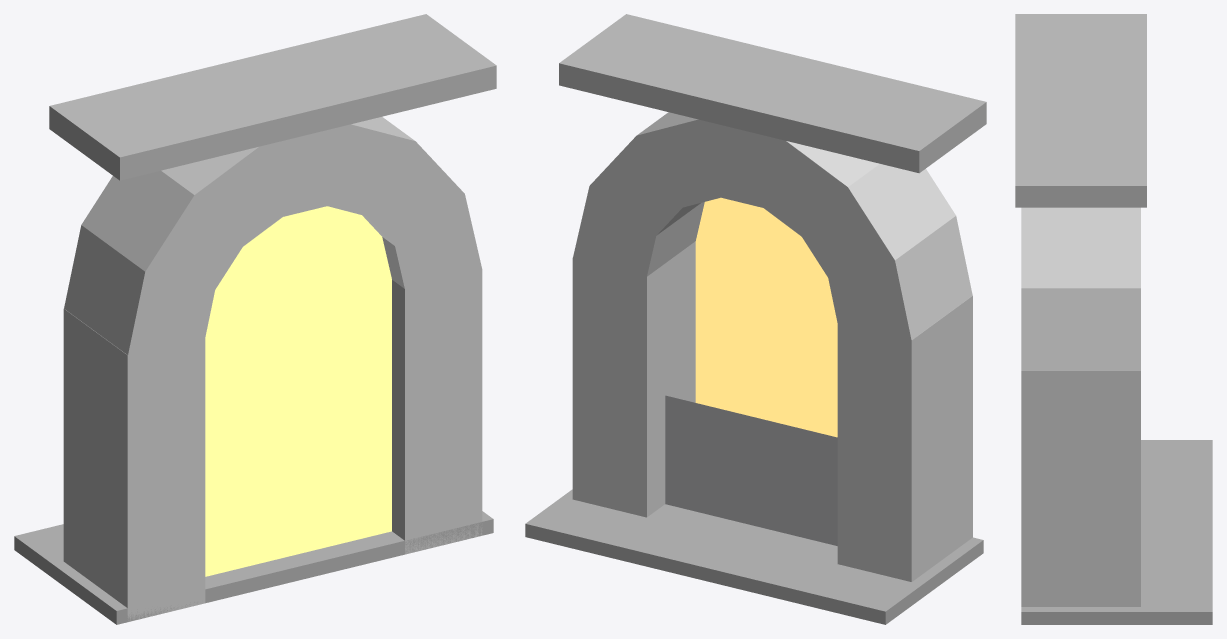
The model's file is furnace_mouth.glb.
The picture shows the model from 3 angles, left to right: view 1: azimuth 30°, elevation 25°; view 2: azimuth 150°, elevation 25°; view 3: azimuth 270°, elevation 25°; orthographic projection. The views are drawn at different scales.
Parts seen in each view (by area): view 1: Furnace_mouth; view 2: Furnace_mouth; view 3: Furnace_mouth.
Boxes of the visible parts, <box> form: Furnace_mouth: <box>14,14,496,624</box>; Furnace_mouth: <box>525,14,986,624</box>; Furnace_mouth: <box>1015,14,1212,624</box>.
Bounding box in the file's own units: 3.4 × 4.05 × 1.65.
